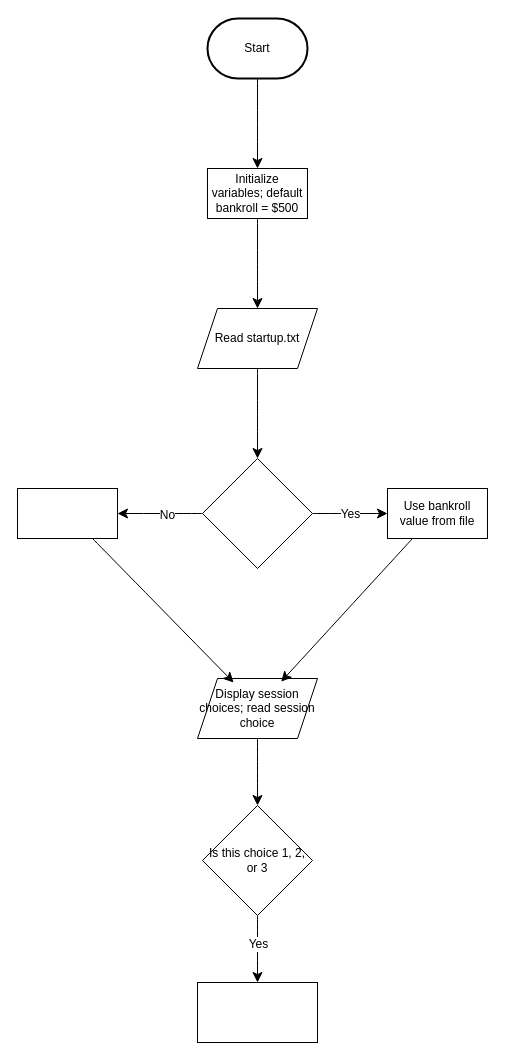
Image size: 505x1060. Some labels were removed from this diagram. Each missing label, with the centre of its shape:
Use $500 default; display fallback message: (67,513)
Use switch to set session round limit: (257,1012)
Was a positive starting bankroll read?: (257,513)
